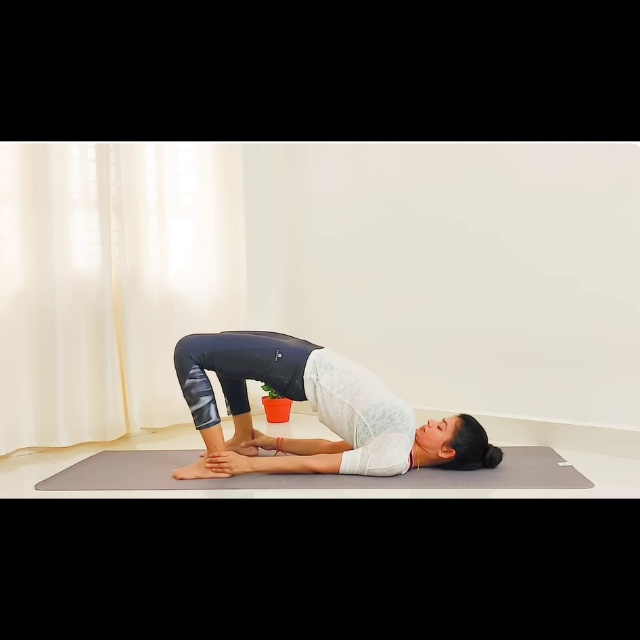Bridge_Pose: (169, 328, 512, 487)
